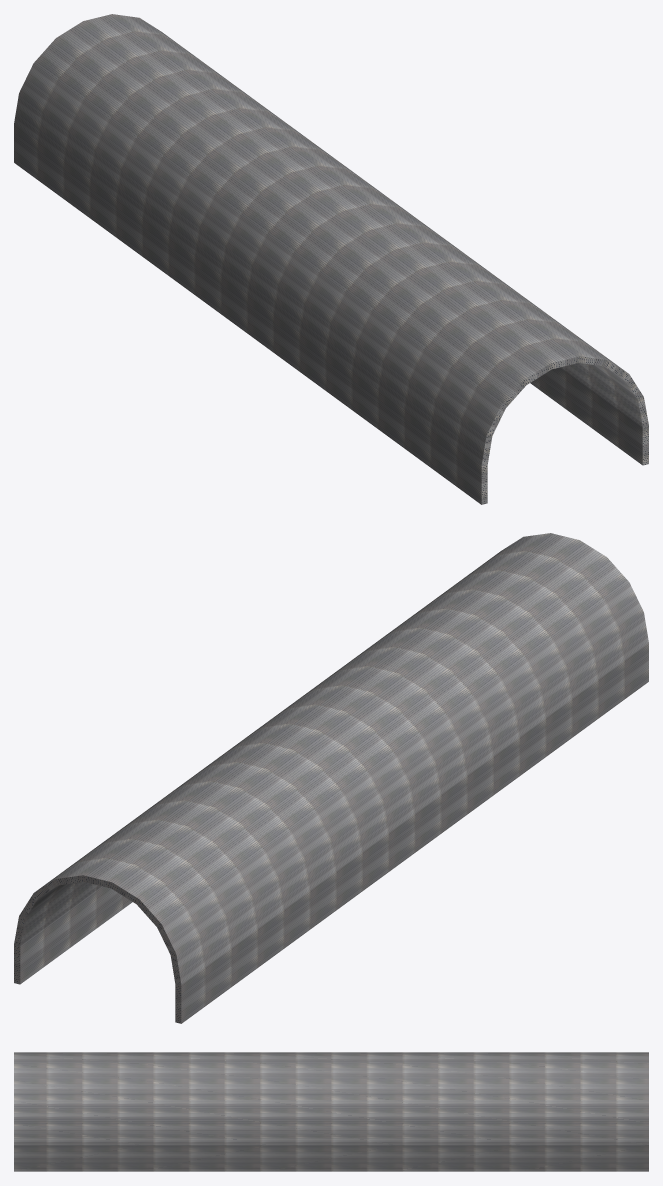
The model's file is WearHouse.FBX.
3 views of the same model, one above another, from view 1: azimuth 30°, elevation 25°; view 2: azimuth 150°, elevation 25°; view 3: azimuth 270°, elevation 25° (orthographic). The views are drawn at different scales.
Parts seen in each view (by area): view 1: Cylinder001; view 2: Cylinder001; view 3: Cylinder001.
Boxes of the visible parts, x1,y1,x2,y2 form: Cylinder001: [14, 14, 648, 504]; Cylinder001: [14, 533, 648, 1023]; Cylinder001: [14, 1052, 648, 1171].
Bounding box in the file's own units: 27097 × 131033 × 19277.
1 material, 1 textured.
